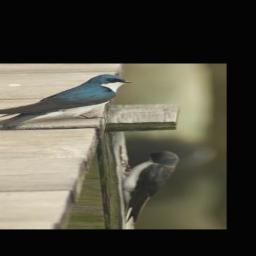Swallow: (0, 73, 132, 127)
